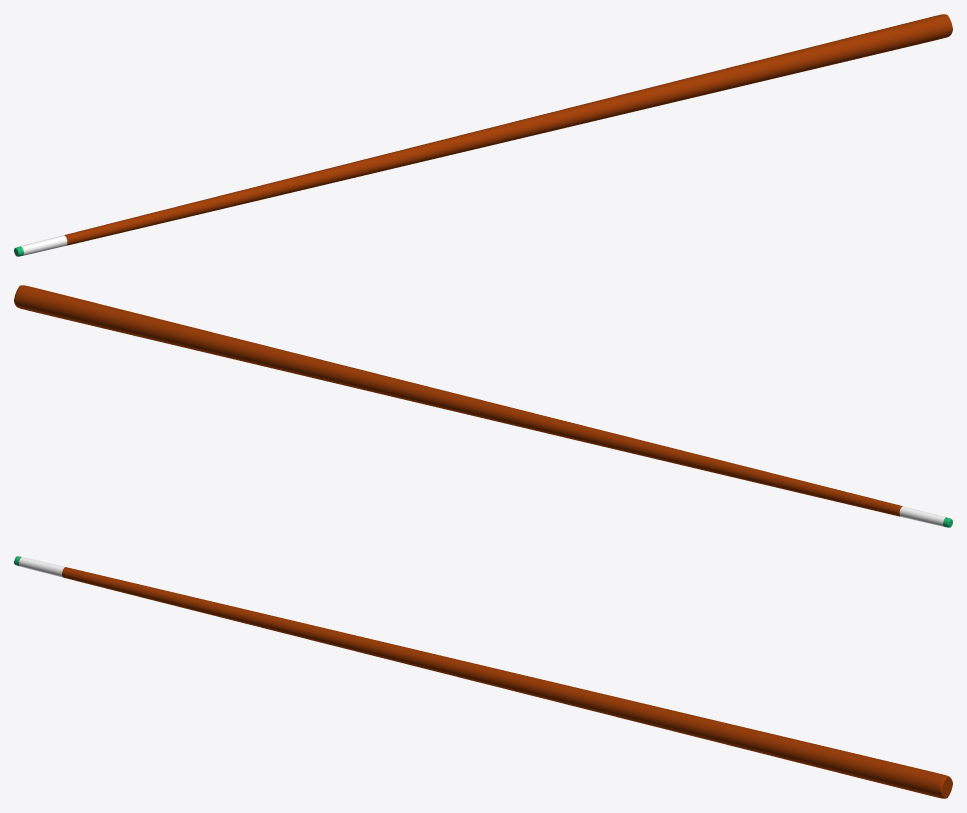
Rendered from CueStick.fbx.
3 views of the same model, one above another, from view 1: azimuth 30°, elevation 25°; view 2: azimuth 150°, elevation 25°; view 3: azimuth 330°, elevation 25° (orthographic).
Visible parts, largest first — view 1: Cylinder; view 2: Cylinder; view 3: Cylinder.
Part boxes in pixels (x1,y1,x2,y2): Cylinder: (14,14,952,256); Cylinder: (14,285,952,527); Cylinder: (14,556,952,798).
Size of the model in its own units: 145 by 3.24 by 3.24.
